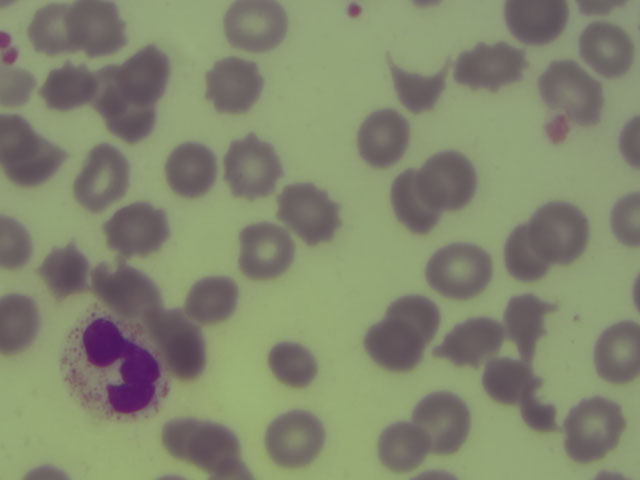Platelets: (340, 1, 367, 24)
RBC: (92, 261, 163, 314), (450, 41, 526, 89), (438, 315, 501, 365), (505, 291, 552, 356), (590, 322, 640, 383), (482, 351, 538, 405), (424, 150, 480, 204), (541, 61, 597, 115), (579, 23, 635, 77), (389, 57, 445, 111), (355, 114, 411, 168), (109, 201, 165, 255), (235, 225, 291, 279), (283, 184, 339, 238), (224, 139, 280, 193), (162, 142, 218, 196), (72, 150, 128, 204), (102, 91, 158, 145), (206, 60, 262, 114), (567, 400, 623, 454), (530, 203, 586, 257), (413, 393, 469, 447), (265, 411, 321, 465), (263, 336, 319, 390), (176, 417, 232, 471), (38, 244, 94, 298), (429, 244, 485, 298), (390, 168, 437, 232), (68, 1, 124, 54), (503, 1, 570, 44), (186, 271, 238, 326), (381, 293, 443, 339), (225, 1, 286, 47), (373, 420, 427, 470), (1, 289, 41, 355), (26, 1, 76, 53), (157, 315, 204, 370), (503, 221, 546, 280), (10, 134, 59, 180), (41, 63, 92, 107), (365, 324, 418, 366), (605, 189, 640, 251), (121, 47, 165, 95), (1, 209, 33, 275), (1, 114, 34, 164), (1, 65, 32, 106), (89, 68, 120, 107)
WBC: (60, 313, 171, 426)
